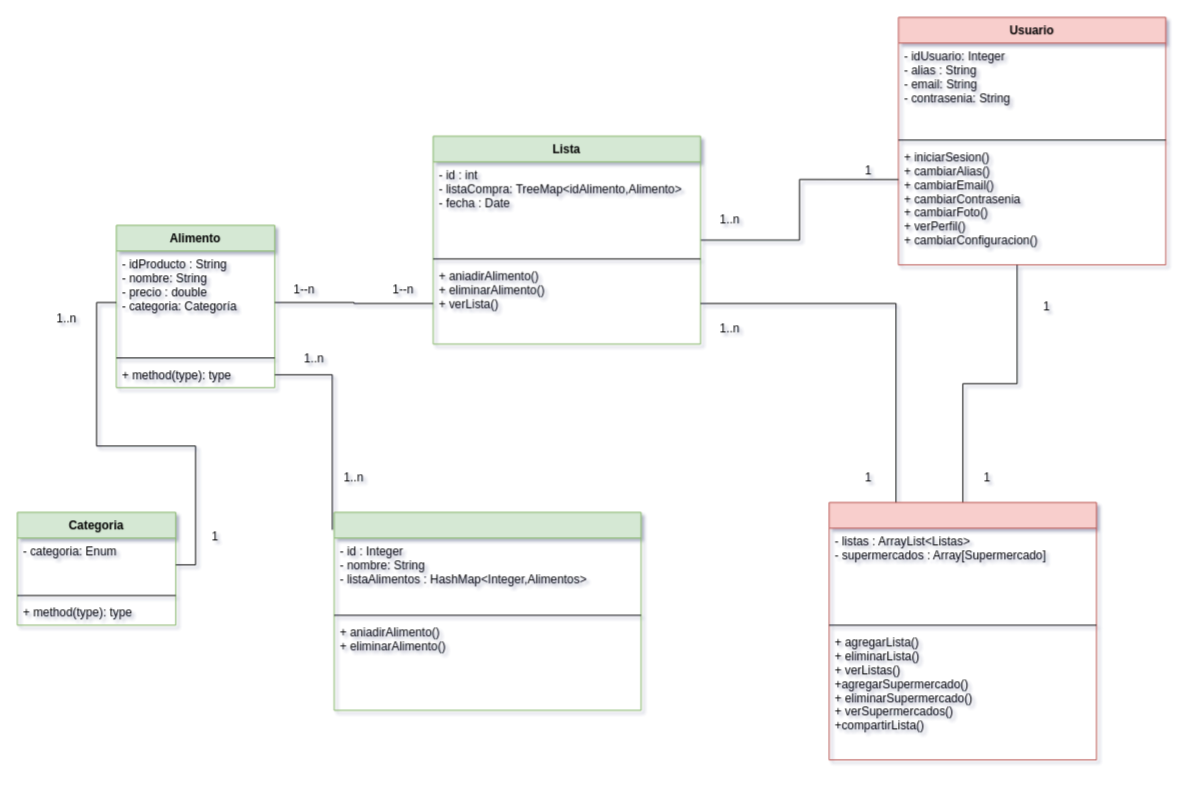
Image size: 1189x786. Some labels were removed from this diagram. Each missing label, with the box of its shape:
Mural: (828, 501, 1096, 760)
Supermercado: (333, 511, 641, 710)
